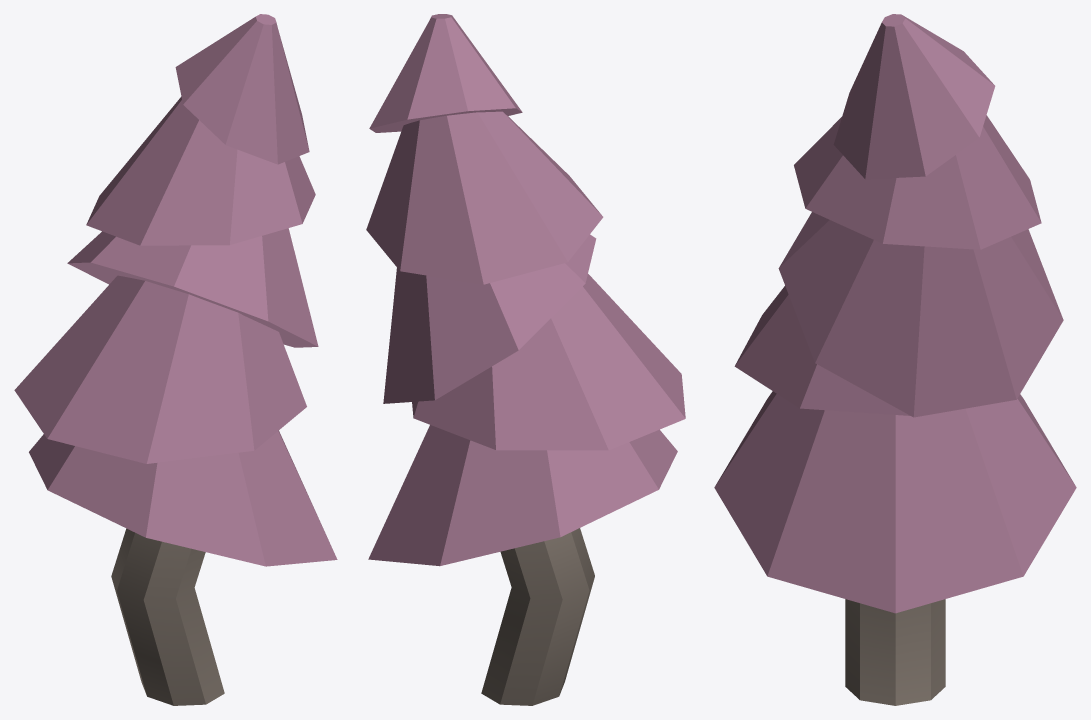
The model's file is AssetPinoSRosa.fbx.
3 views of the same model, side by side, from view 1: azimuth 30°, elevation 25°; view 2: azimuth 150°, elevation 25°; view 3: azimuth 270°, elevation 25° (orthographic). The views are drawn at different scales.
Visible parts, largest first — view 1: pCylinder16, pCylinder17; view 2: pCylinder16, pCylinder17; view 3: pCylinder16, pCylinder17.
Boxes of the visible parts, x1,y1,x2,y2 form: pCylinder16: (14,14,337,566); pCylinder17: (111,528,224,705); pCylinder16: (366,14,685,566); pCylinder17: (481,528,594,705); pCylinder16: (714,14,1076,613); pCylinder17: (845,599,945,705).
Size of the model in its own units: 3.14 by 6.87 by 3.17.
